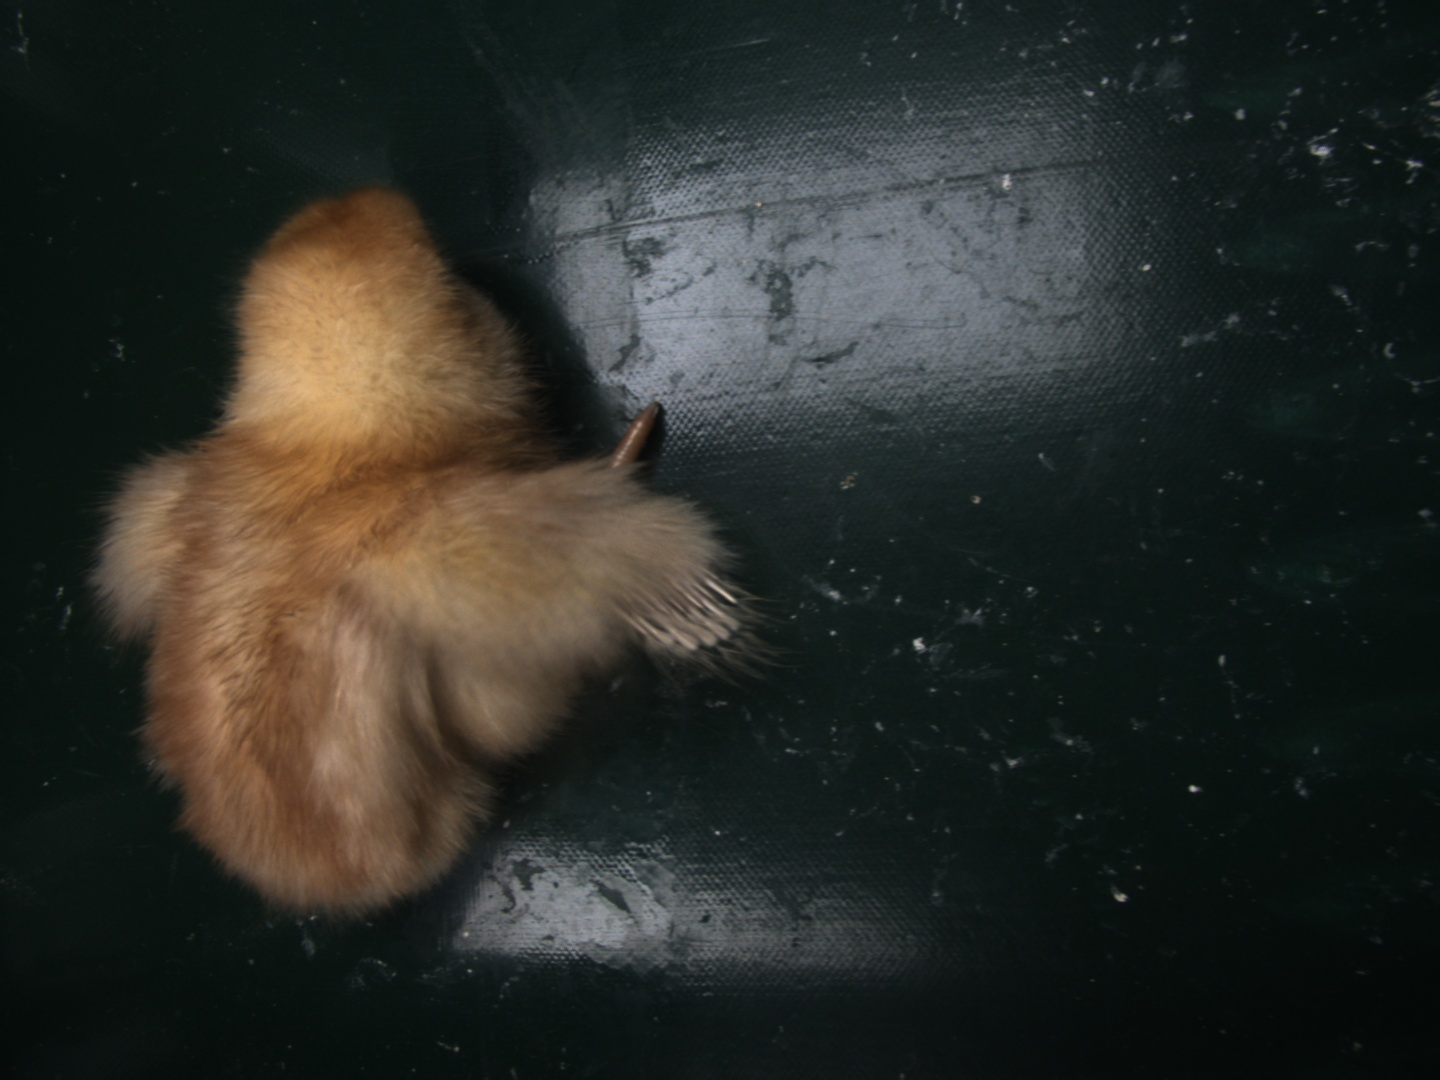female: (619, 567, 742, 650)
